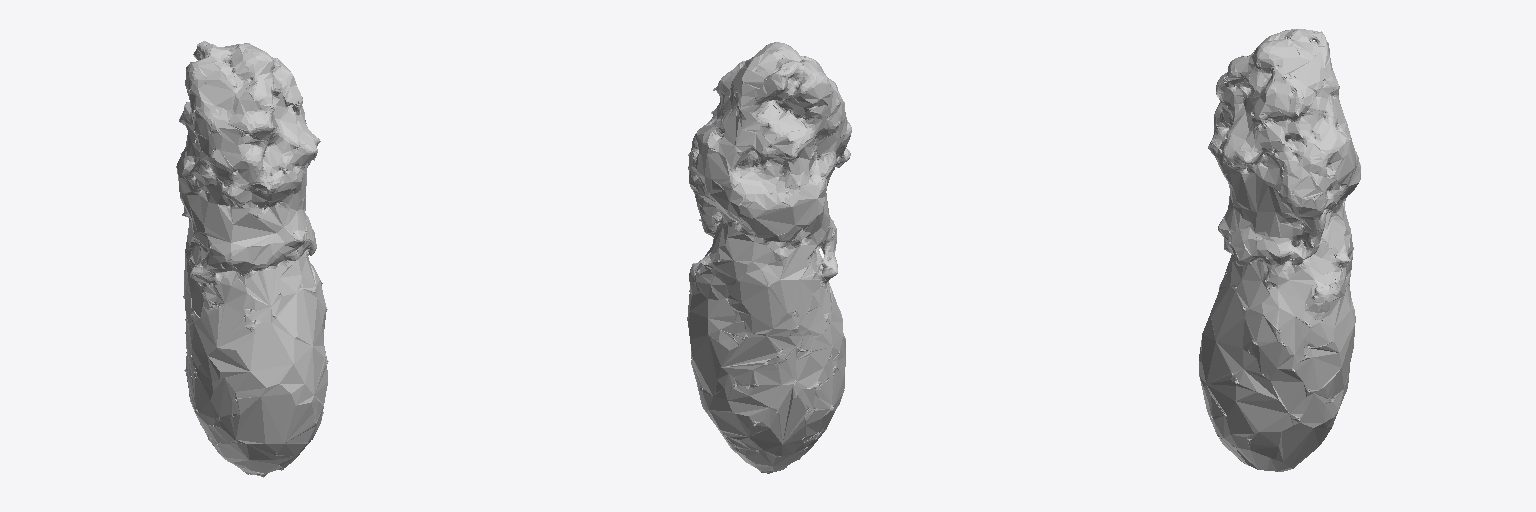
The model's file is EMAP_TS09.obj.
3 views of the same model, side by side, from view 1: azimuth 30°, elevation 25°; view 2: azimuth 150°, elevation 25°; view 3: azimuth 270°, elevation 25° (orthographic).
Visible parts, largest first — view 1: TS09_embryo_full; view 2: TS09_embryo_full; view 3: TS09_embryo_full.
Boxes of the visible parts, <box> form: TS09_embryo_full: <box>176,41,328,477</box>; TS09_embryo_full: <box>687,42,851,473</box>; TS09_embryo_full: <box>1199,29,1360,471</box>.
Size of the model in its own units: 12.94 by 38.66 by 13.46.